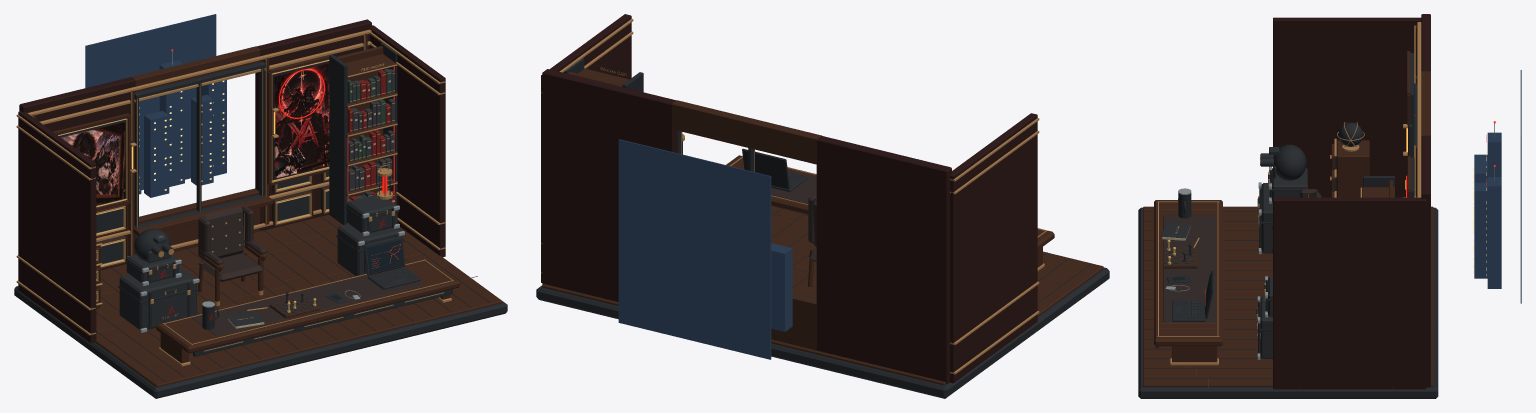
File: yor-night-study.glb
The picture shows the model from 3 angles, left to right: view 1: azimuth 30°, elevation 25°; view 2: azimuth 150°, elevation 25°; view 3: azimuth 270°, elevation 25°; orthographic projection. The views are drawn at different scales.
Visible parts, largest first — view 1: Study / Dark carved walnut, Study / Oxblood lacquer wall, Study / Ebony metal, Study / Midnight skyline, Study / Aged bronze, Study / Framed reference artwork, Study / Black case polymer, Study / Tufted black leather, Study / Black cloth books, Study / Crimson leather books, Study / Satin brass, Study / Obsidian laptop glass (+6 smaller); view 2: Study / Oxblood lacquer wall, Study / Midnight skyline, Study / Dark carved walnut, Study / Ebony metal, Study / Aged bronze, Study / Tufted black leather; view 3: Study / Oxblood lacquer wall, Study / Dark carved walnut, Study / Ebony metal, Study / Midnight skyline, Study / Tufted black leather, Study / Black case polymer, Study / Aged bronze, Study / Pewter details.
Boxes of the visible parts, box(x1,y1,x2,y2) form: Study / Dark carved walnut: box(32, 33, 502, 387); Study / Oxblood lacquer wall: box(18, 19, 445, 342); Study / Ebony metal: box(14, 43, 507, 398); Study / Midnight skyline: box(85, 14, 226, 197); Study / Aged bronze: box(16, 29, 453, 366); Study / Framed reference artwork: box(61, 63, 329, 204); Study / Black case polymer: box(119, 194, 409, 329); Study / Tufted black leather: box(192, 206, 423, 336); Study / Black cloth books: box(348, 69, 395, 199); Study / Crimson leather books: box(347, 70, 395, 204); Study / Satin brass: box(58, 60, 383, 312); Study / Obsidian laptop glass: box(330, 239, 403, 299); Study / Oxblood lacquer wall: box(541, 14, 1037, 383); Study / Midnight skyline: box(618, 139, 792, 359); Study / Dark carved walnut: box(542, 68, 1103, 385); Study / Ebony metal: box(536, 58, 1109, 398); Study / Aged bronze: box(541, 19, 1047, 374); Study / Tufted black leather: box(771, 170, 816, 262); Study / Oxblood lacquer wall: box(1273, 14, 1430, 389); Study / Dark carved walnut: box(1143, 26, 1433, 386); Study / Ebony metal: box(1138, 53, 1438, 398); Study / Midnight skyline: box(1474, 70, 1521, 303); Study / Tufted black leather: box(1163, 189, 1321, 322); Study / Black case polymer: box(1161, 147, 1307, 358); Study / Aged bronze: box(1157, 22, 1421, 365); Study / Pewter details: box(1165, 123, 1494, 359).
Size of the model in its own units: 7.13 by 3.7 by 6.26.
Materials: 23 (1 with a texture image).
